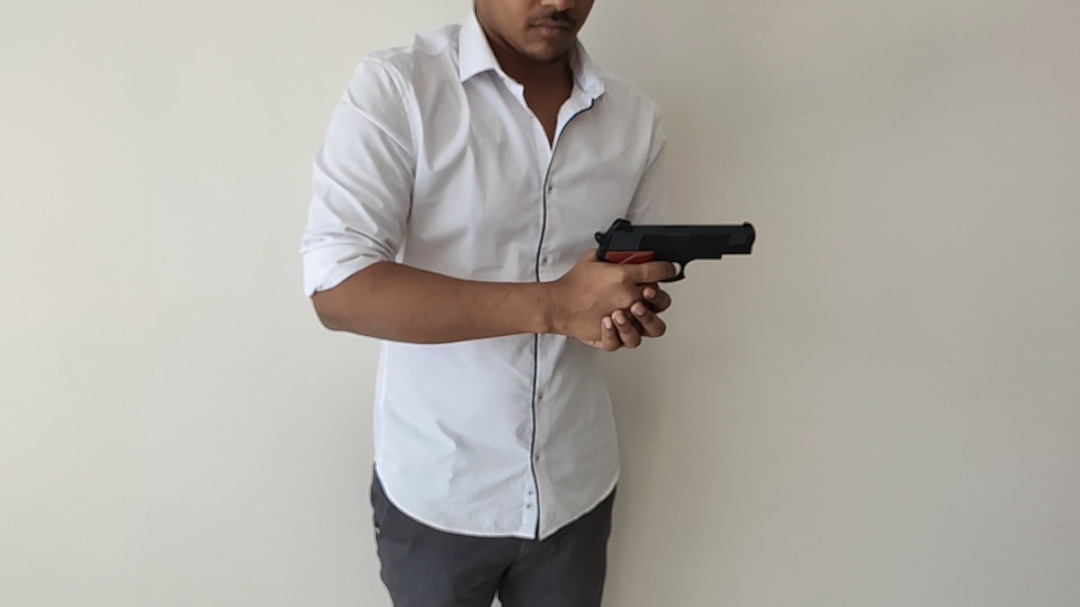gun: (247, 35, 818, 548)
